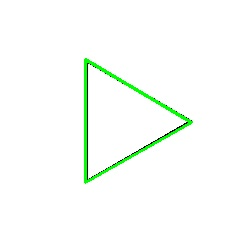line_segment: (84, 59, 192, 183)
